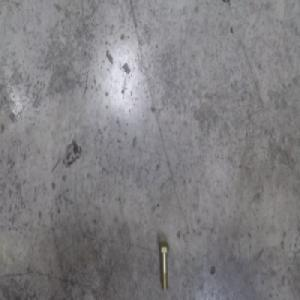Bolt: (158, 240, 170, 290)
